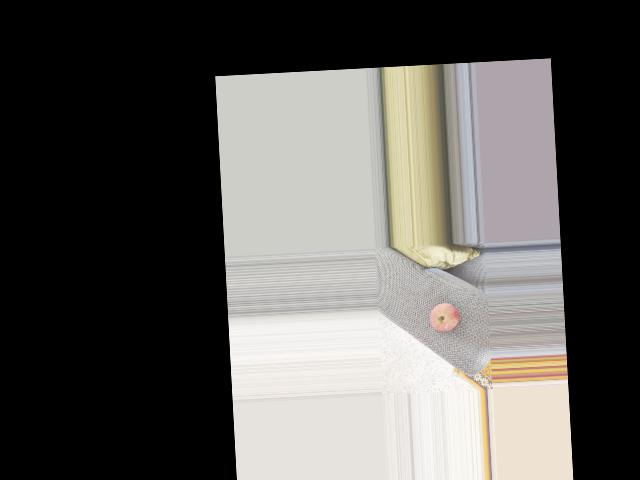apple: (430, 298, 463, 333)
